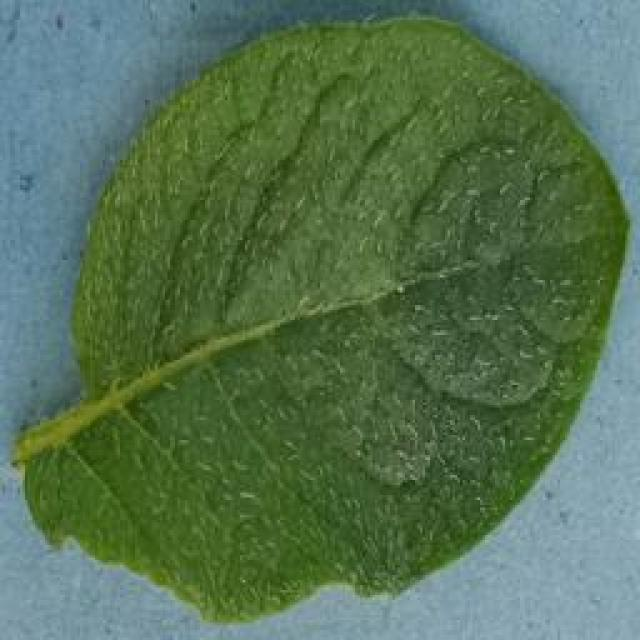Potato_Healthy: (22, 16, 620, 624)
